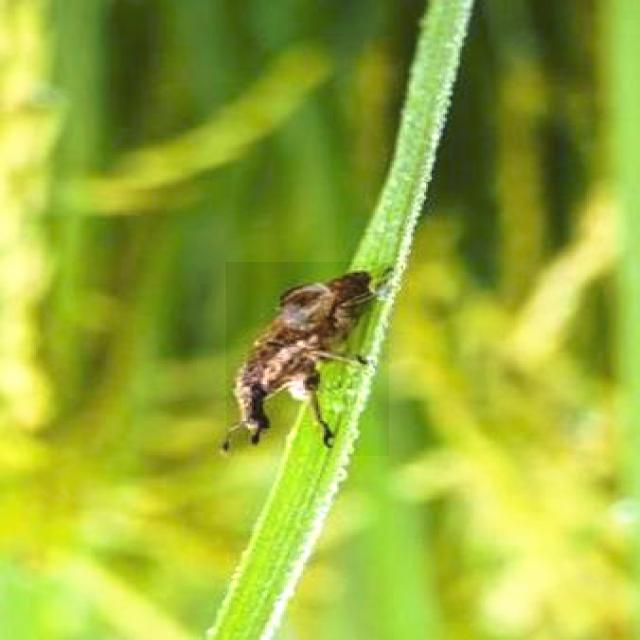rice-bug: (226, 262, 389, 456)
